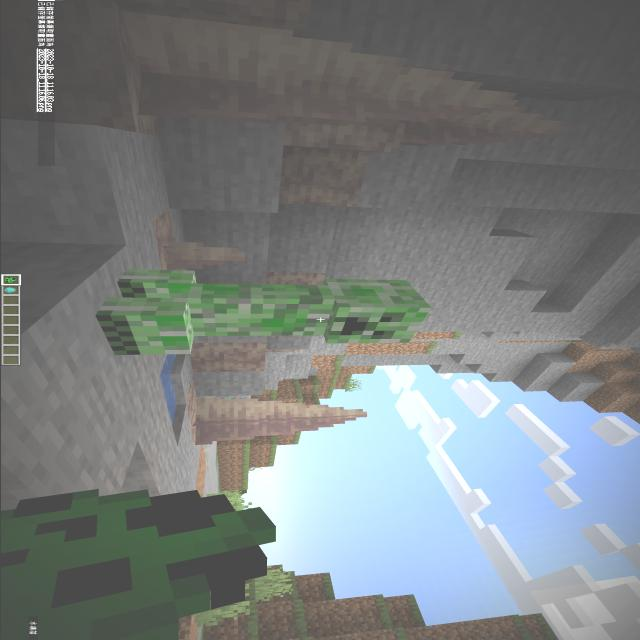Creeper: (73, 250, 464, 379)
